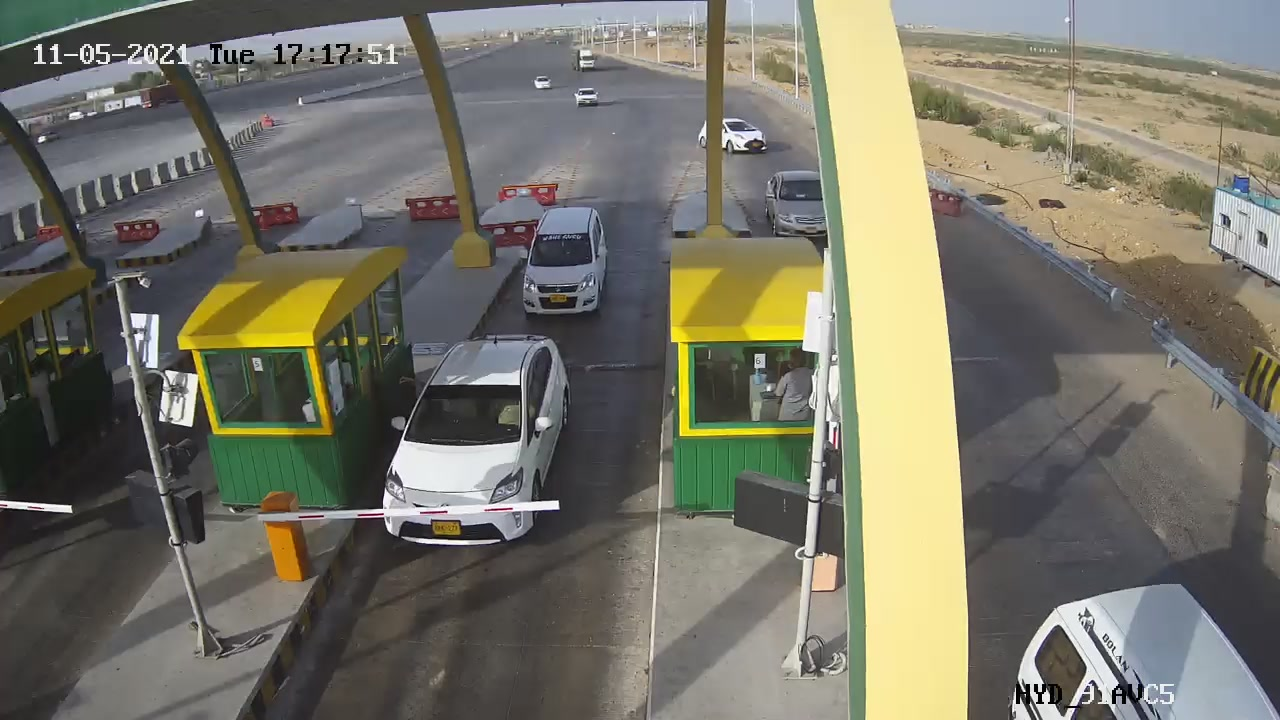F1: (366, 320, 586, 562), (507, 198, 622, 327)
